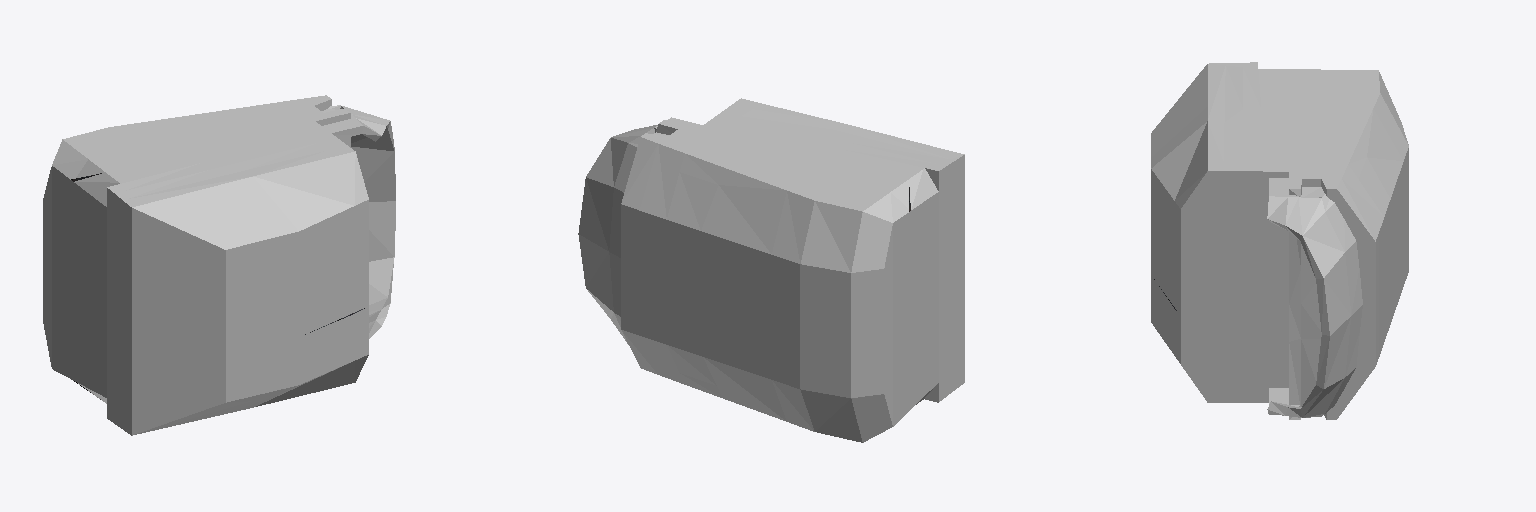
3 renders of one model, left to right at view 1: azimuth 30°, elevation 25°; view 2: azimuth 150°, elevation 25°; view 3: azimuth 270°, elevation 25°, orthographic.
Visible parts, largest first — view 1: CP_OptimusArm_SKEL; view 2: CP_OptimusArm_SKEL; view 3: CP_OptimusArm_SKEL.
Part boxes in pixels (x1,y1,x2,y2): CP_OptimusArm_SKEL: (43, 95, 395, 435); CP_OptimusArm_SKEL: (578, 98, 964, 442); CP_OptimusArm_SKEL: (1151, 62, 1408, 419).
Bounding box in the file's own units: 94.27 × 63.31 × 64.
2 materials, 1 textured.